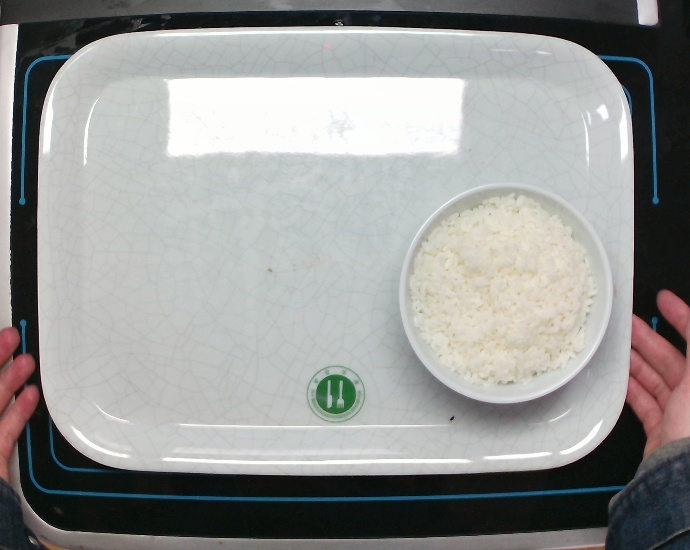JYsf-Fan_Wan: (397, 180, 615, 406)
